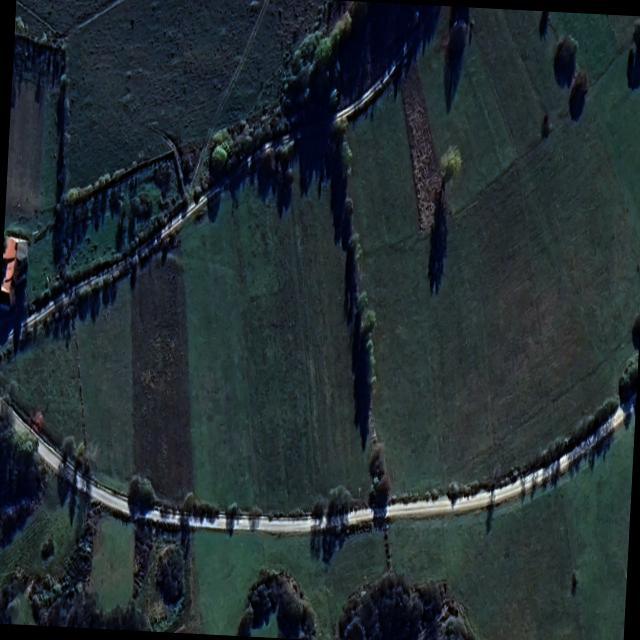building: (0, 6, 444, 356), (0, 383, 637, 535), (3, 232, 31, 314)
grass: (0, 135, 389, 511), (378, 8, 640, 493), (174, 407, 636, 640), (15, 0, 356, 196), (347, 74, 545, 377), (0, 42, 190, 330), (0, 420, 185, 633), (277, 3, 427, 134)
tree: (15, 23, 188, 222), (207, 2, 361, 172), (330, 120, 378, 382), (341, 571, 472, 640), (0, 424, 49, 554), (237, 574, 320, 640), (156, 547, 186, 609), (619, 313, 640, 399), (553, 35, 577, 87), (439, 144, 466, 185), (628, 17, 640, 87), (570, 66, 588, 109), (130, 189, 155, 216), (541, 113, 552, 142), (540, 12, 549, 35)
